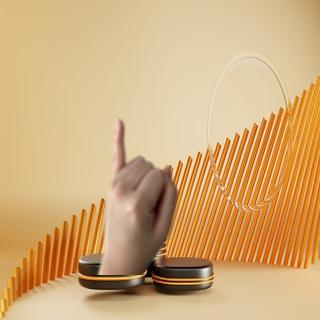FINE: (100, 115, 181, 254)
